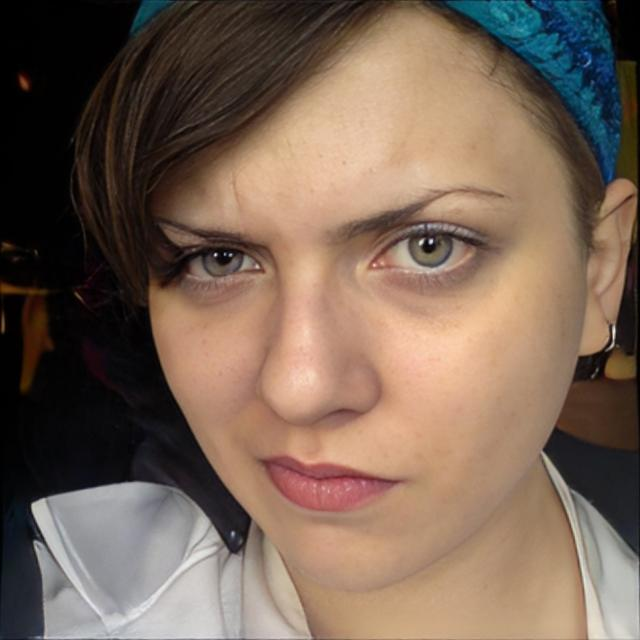anger: (141, 1, 581, 590)
